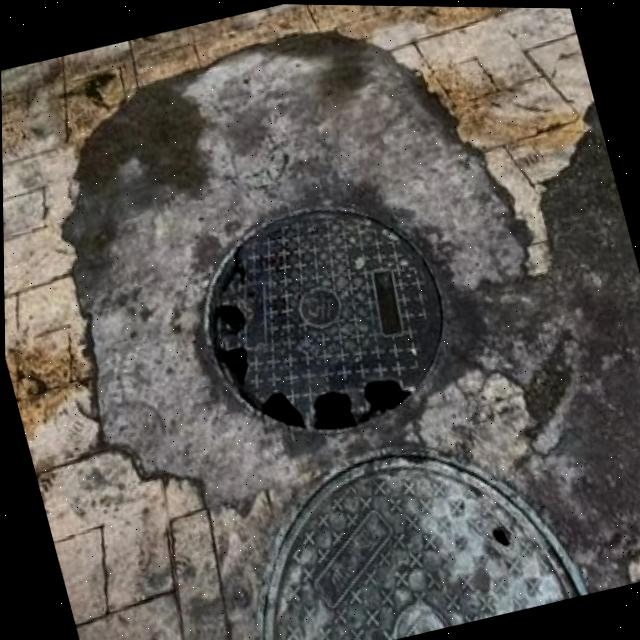manhole: (165, 168, 470, 464)
